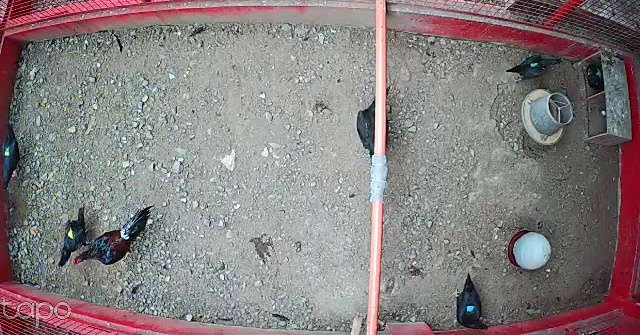Chicken: (353, 86, 399, 170), (449, 271, 490, 332), (58, 202, 95, 267), (504, 51, 566, 85), (0, 122, 27, 189)
Rooster: (72, 201, 160, 265)
Saddle_Color_Blue: (464, 305, 476, 314)
Saddle_Color_Yellow: (68, 229, 76, 240)
Saddle_Color_YellowGreen: (2, 146, 12, 157)
